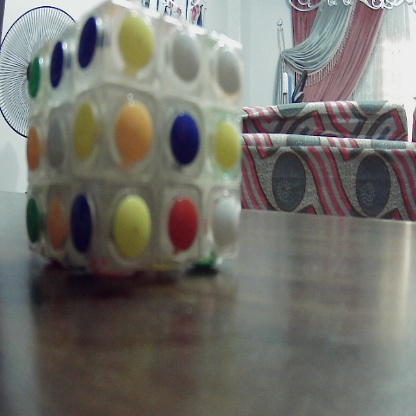Rubix Cube: (25, 4, 240, 266)
